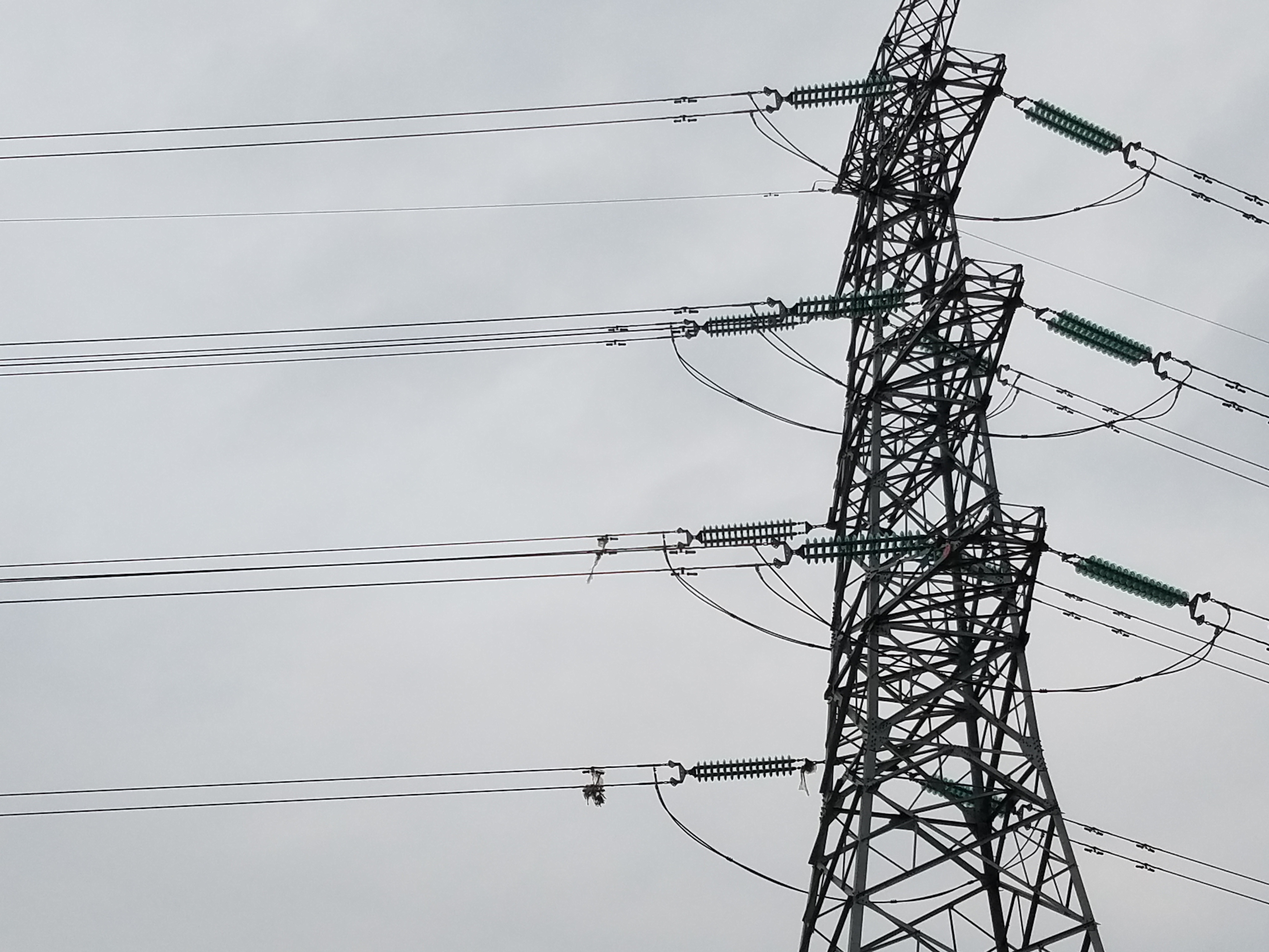异物: (586, 534, 609, 585), (582, 766, 607, 808), (798, 757, 817, 797)
